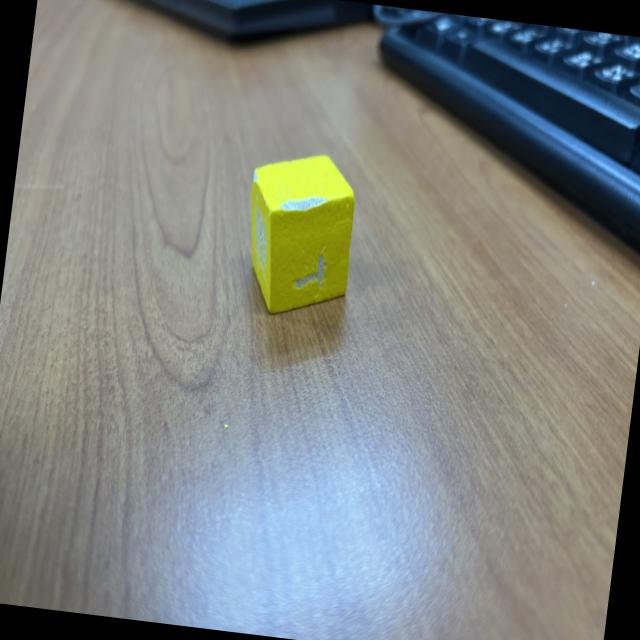broken: (234, 144, 364, 323)
